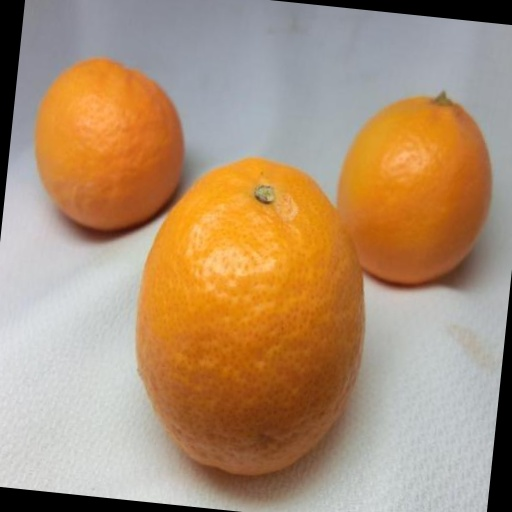fruit: (1, 61, 361, 292), (264, 172, 454, 512), (452, 109, 512, 339)
